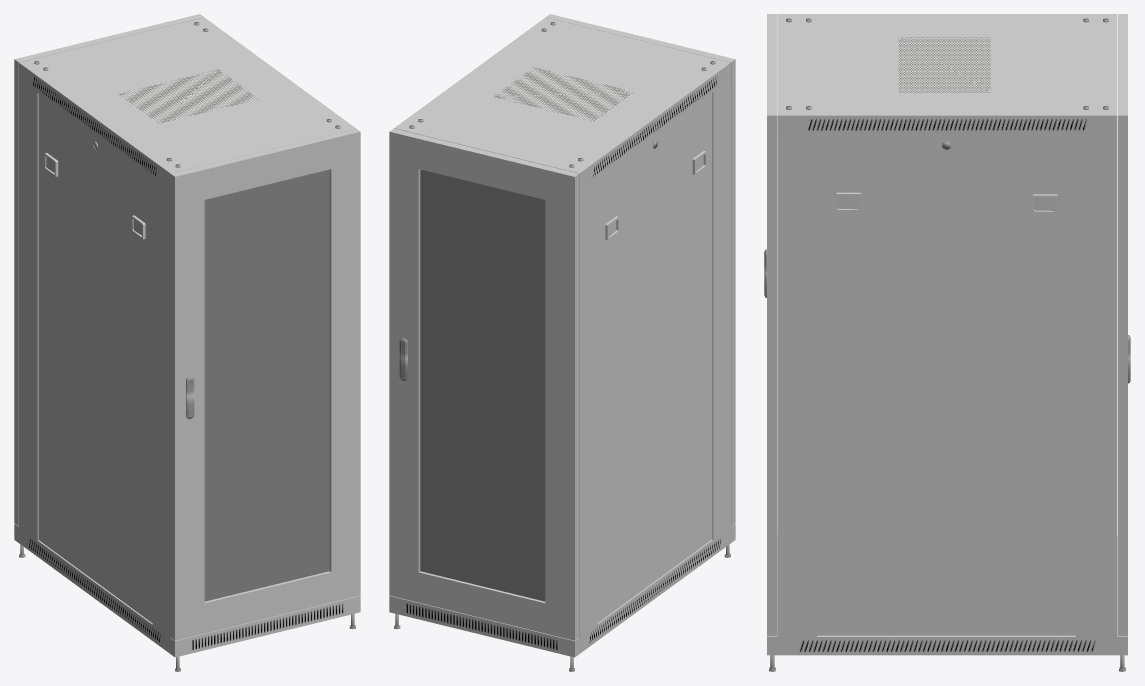
The model's file is RKAG30.fbx.
3 views of the same model, side by side, from view 1: azimuth 30°, elevation 25°; view 2: azimuth 150°, elevation 25°; view 3: azimuth 270°, elevation 25° (orthographic). The views are drawn at different scales.
Parts seen in each view (by area): view 1: frontdoor, Box131, RKAG30, backdoor; view 2: backdoor, Box131, RKAG30, frontdoor; view 3: RKAG30, Box131, frontdoor, backdoor.
Boxes of the visible parts, box(x1,y1,x2,y2) form: frontdoor: box(170, 128, 360, 640); Box131: box(14, 17, 360, 671); RKAG30: box(38, 93, 152, 622); backdoor: box(14, 14, 204, 525); backdoor: box(389, 128, 579, 640); Box131: box(389, 17, 735, 671); RKAG30: box(598, 93, 712, 622); frontdoor: box(546, 14, 735, 525); RKAG30: box(817, 134, 1075, 635); Box131: box(767, 14, 1127, 671); frontdoor: box(764, 14, 776, 636); backdoor: box(1118, 14, 1130, 636).
Size of the model in its own units: 610 by 1538 by 913.
Materials: 6 (5 with a texture image).
